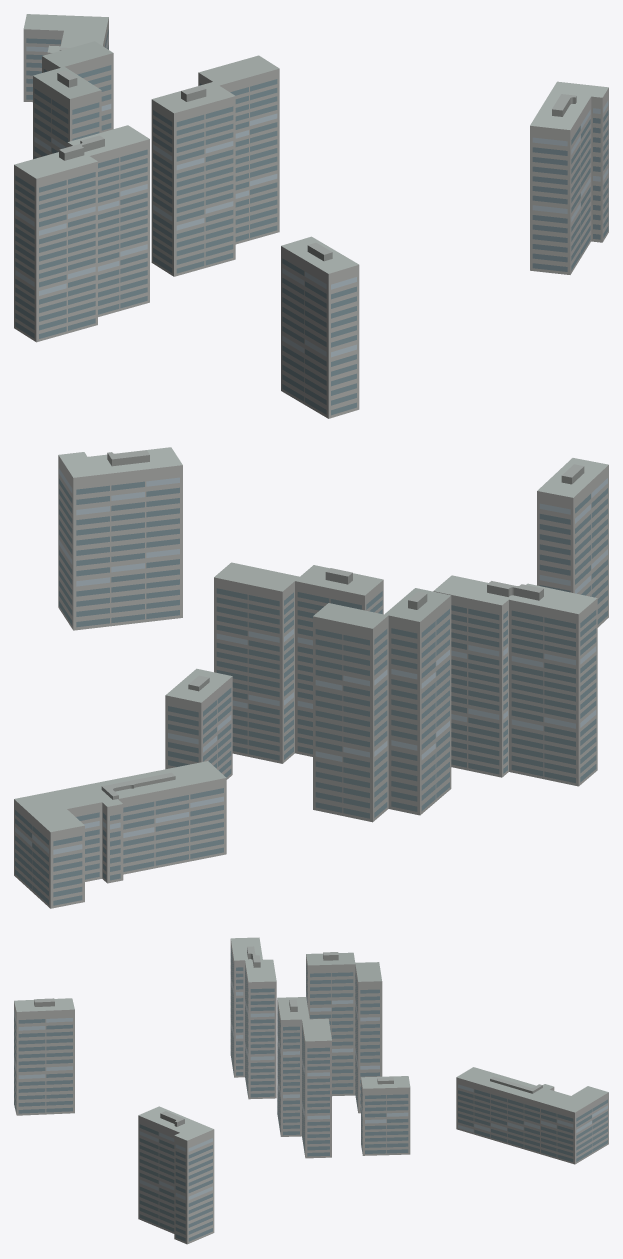
Rendered from apt-a13882402.glb.
The picture shows the model from 3 angles, top to bottom: view 1: azimuth 30°, elevation 25°; view 2: azimuth 150°, elevation 25°; view 3: azimuth 270°, elevation 25°; orthographic projection. The views are drawn at different scales.
Parts seen in each view (by area): view 1: apt-a13882402; view 2: apt-a13882402; view 3: apt-a13882402.
Part boxes in pixels (left/top/right/bottom): apt-a13882402: left=14, top=14, right=608, bottom=418; apt-a13882402: left=14, top=447, right=608, bottom=908; apt-a13882402: left=14, top=937, right=608, bottom=1244.
Size of the model in its own units: 180 by 60.35 by 238.
